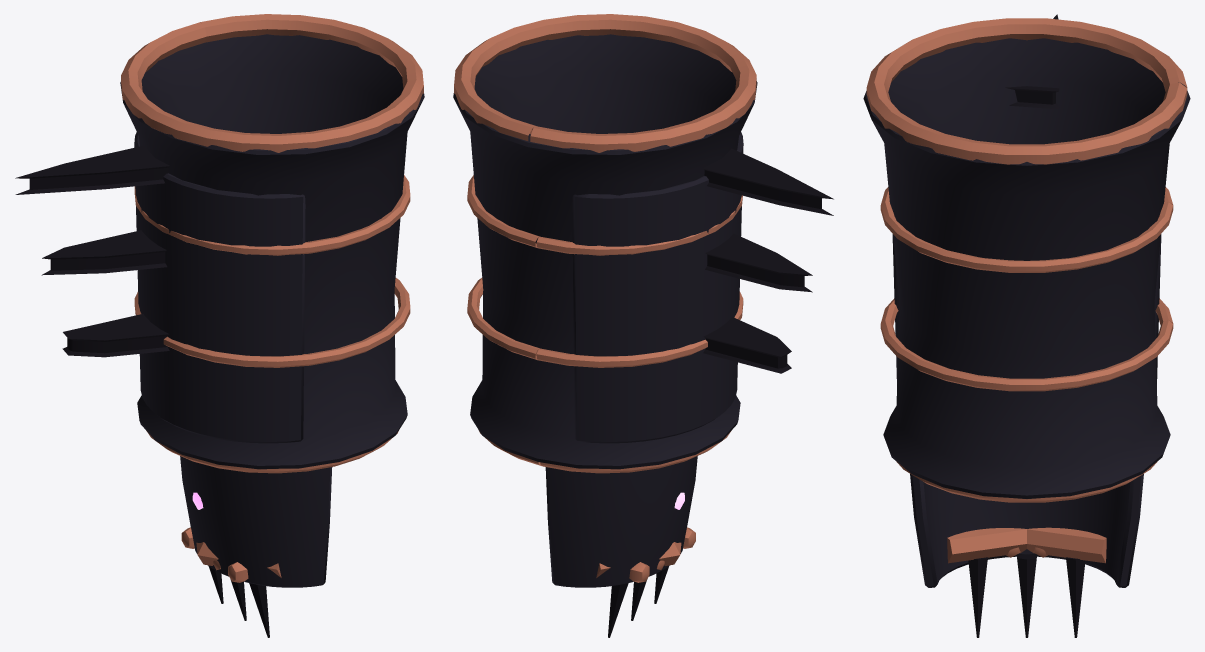
The model's file is boss_obsidian_oath_gloves_2.glb.
The picture shows the model from 3 angles, left to right: view 1: azimuth 30°, elevation 25°; view 2: azimuth 150°, elevation 25°; view 3: azimuth 270°, elevation 25°; orthographic projection. The views are drawn at different scales.
Visible parts, largest first — view 1: boss_obsidian_oath_gloves_2, AT_hand_R; view 2: boss_obsidian_oath_gloves_2, AT_hand_R; view 3: boss_obsidian_oath_gloves_2, AT_hand_R.
Part boxes in pixels (<box>): boss_obsidian_oath_gloves_2: <box>15,14,424,473</box>; AT_hand_R: <box>180,456,332,637</box>; boss_obsidian_oath_gloves_2: <box>453,14,833,473</box>; AT_hand_R: <box>545,456,697,637</box>; boss_obsidian_oath_gloves_2: <box>863,14,1190,502</box>; AT_hand_R: <box>910,474,1143,637</box>.
Bounding box in the file's own units: 0.2808 × 0.385 × 0.2004.
